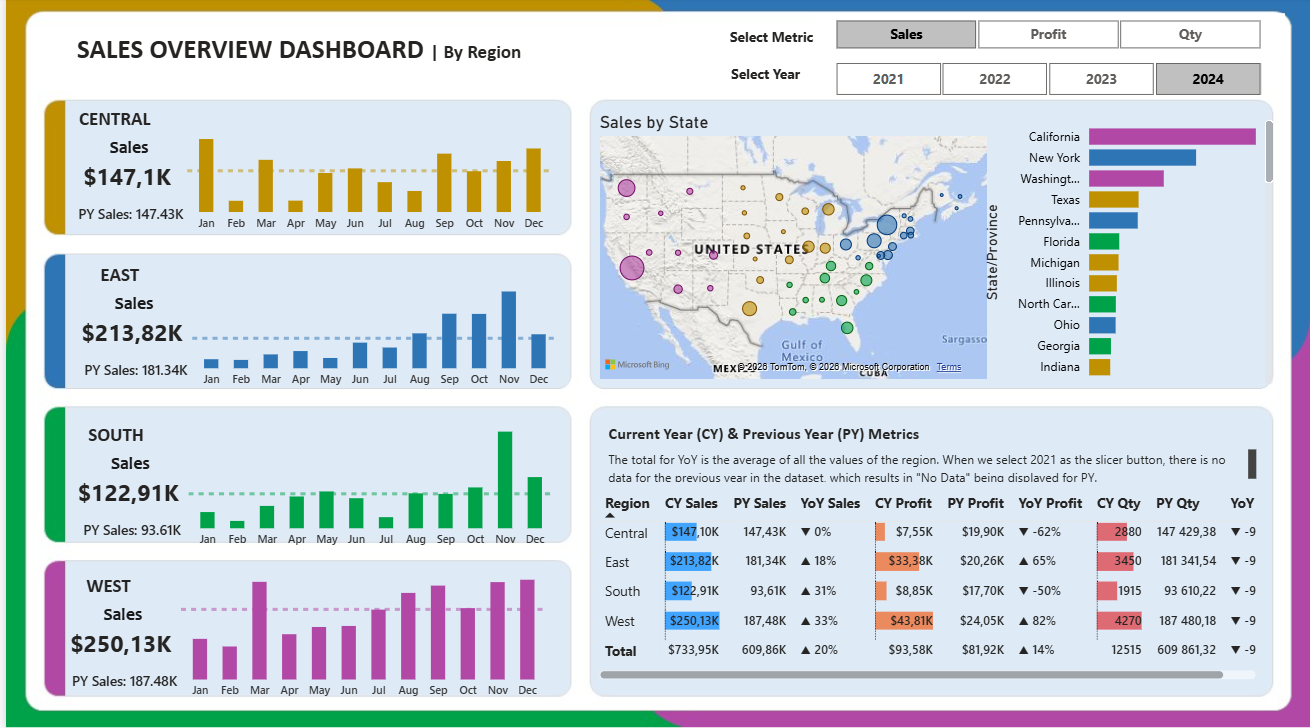

The page's visual inventory and layout, read from the dashboard file:
{"tool":"powerbi","page":{"name":"Page 1","canvas":[1280,720],"ordinal":0},"visuals":[{"type":"slicer","fields":{"Values":["Select Metric.Select Metric"]},"box":[789,16,466.3,41.7],"z":0},{"type":"slicer","fields":{"Values":["Calendar Table.Year"]},"box":[789,57.7,466.3,45.4],"z":1000},{"type":"card","fields":{"Values":["Sales Data.Total Sales"]},"box":[61.4,151,115.3,52.8],"z":1000,"group":"g1"},{"type":"card","fields":{"Values":["Sales Data.Total Sales"]},"box":[66.3,304.3,115.3,52.8],"z":1000,"group":"g2"},{"type":"card","fields":{"Values":["Sales Data.Total Sales"]},"box":[62.1,461.7,115.3,52.8],"z":1000,"group":"g3"},{"type":"card","fields":{"Values":["Sales Data.Total Sales"]},"box":[55.7,610.1,115.3,52.8],"z":1000,"group":"g4"},{"type":"textbox","box":[40.5,29.4,494.5,55.2],"z":2000},{"type":"textbox","box":[40.5,103.1,132.5,40.5],"z":2000,"group":"g1"},{"type":"textbox","box":[45.4,256.4,132.5,40.5],"z":2000,"group":"g2"},{"type":"textbox","box":[41.2,413.8,132.5,40.5],"z":2000,"group":"g3"},{"type":"textbox","box":[34.8,562.2,132.5,40.5],"z":2000,"group":"g4"},{"type":"group","id":"g1","title":"Group 1","box":[40.5,98.2,501.8,143.6],"z":3000},{"type":"card","fields":{"Values":["Sales Data.Dynamic Title"]},"box":[88.4,128.9,65,39.3],"z":4000,"group":"g1"},{"type":"group","id":"g2","title":"Group 1","box":[45.4,251.5,501.8,143.6],"z":4000},{"type":"card","fields":{"Values":["Sales Data.Dynamic Title"]},"box":[93.3,282.2,65,39.3],"z":4000,"group":"g2"},{"type":"card","fields":{"Values":["Sales Data.Dynamic Title"]},"box":[89.1,439.6,65,39.3],"z":4000,"group":"g3"},{"type":"card","fields":{"Values":["Sales Data.Dynamic Title"]},"box":[82.7,588,65,39.3],"z":4000,"group":"g4"},{"type":"card","fields":{"Values":["Sales Data.PY KPI Sales"]},"box":[45.4,189,154.6,52.8],"z":5000,"group":"g1"},{"type":"card","fields":{"Values":["Sales Data.PY KPI Sales"]},"box":[50.3,342.3,154.6,52.8],"z":5000,"group":"g2"},{"type":"group","id":"g3","title":"Group 1","box":[41.2,408.9,502.2,142.7],"z":5000},{"type":"card","fields":{"Values":["Sales Data.PY KPI Sales"]},"box":[46.1,499.7,154.6,52.8],"z":5000,"group":"g3"},{"type":"card","fields":{"Values":["Sales Data.PY KPI Sales"]},"box":[39.7,648.1,154.6,52.8],"z":5000,"group":"g4"},{"type":"clusteredColumnChart","fields":{"Y":["Sales Data.Total Sales"],"Category":["Calendar Table.Month"]},"box":[173,98.2,369.3,141.1],"z":6000,"group":"g1"},{"type":"clusteredColumnChart","fields":{"Y":["Sales Data.Total Sales"],"Category":["Calendar Table.Month"]},"box":[177.9,251.5,369.3,141.1],"z":6000,"group":"g2"},{"type":"clusteredColumnChart","fields":{"Y":["Sales Data.Total Sales"],"Category":["Calendar Table.Month"]},"box":[173.7,408.9,369.3,141.1],"z":6000,"group":"g3"},{"type":"group","id":"g4","title":"Group 1","box":[34.8,557.3,502.2,142.7],"z":6000},{"type":"clusteredColumnChart","fields":{"Y":["Sales Data.Total Sales"],"Category":["Calendar Table.Month"]},"box":[167.3,557.3,369.3,141.1],"z":6000,"group":"g4"},{"type":"map","title":"Sales by State","fields":{"Size":["Sales Data.Total Sales"],"Category":["Sales Data.State/Province"],"Series":["Sales Data.Region"]},"box":[577.9,112.9,390.2,267.5],"z":7000},{"type":"barChart","fields":{"Y":["Sales Data.Total Sales"],"Category":["Sales Data.State/Province"],"Series":["Sales Data.Region"]},"box":[954.6,108,294.5,277.3],"z":8000},{"type":"pivotTable","fields":{"Rows":["Sales Data.Region"],"Values":["Sales Data.CY Sales","Sales Data.PY Sales","Sales Data.YoY Sales","Sales Data.CY Profit","Sales Data.PY Profit","Sales Data.YoY Profit","Sales Data.CY Qty","Sales Data.PY Qty","Sales Data.YoY Qty"]},"box":[577.9,481,654,193.9],"z":9000},{"type":"textbox","box":[586.5,413.5,435.6,40.5],"z":10000},{"type":"textbox","box":[586.5,439.3,645.4,41.7],"z":11000},{"type":"textbox","box":[705.5,24.5,92,28.2],"z":12000},{"type":"textbox","box":[706.8,61.4,95.7,35.6],"z":13000}]}

Visuals, with their boxes in screenshot pixels (x1, y1, x2, y2), scaled from the page's 1280x720 canvas onto the 1310x728 screenshot:
slicer - Select Metric.Select Metric: box=[807, 16, 1285, 58]
slicer - Calendar Table.Year: box=[807, 58, 1285, 104]
card - Sales Data.Total Sales: box=[63, 153, 181, 206]
card - Sales Data.Total Sales: box=[68, 308, 186, 361]
card - Sales Data.Total Sales: box=[64, 467, 182, 520]
card - Sales Data.Total Sales: box=[57, 617, 175, 670]
textbox: box=[41, 30, 548, 86]
textbox: box=[41, 104, 177, 145]
textbox: box=[46, 259, 182, 300]
textbox: box=[42, 418, 178, 459]
textbox: box=[36, 568, 171, 609]
"Group 1" group: box=[41, 99, 555, 244]
card - Sales Data.Dynamic Title: box=[90, 130, 157, 170]
"Group 1" group: box=[46, 254, 560, 399]
card - Sales Data.Dynamic Title: box=[95, 285, 162, 325]
card - Sales Data.Dynamic Title: box=[91, 444, 158, 484]
card - Sales Data.Dynamic Title: box=[85, 595, 151, 634]
card - Sales Data.PY KPI Sales: box=[46, 191, 205, 244]
card - Sales Data.PY KPI Sales: box=[51, 346, 210, 399]
"Group 1" group: box=[42, 413, 556, 558]
card - Sales Data.PY KPI Sales: box=[47, 505, 205, 559]
card - Sales Data.PY KPI Sales: box=[41, 655, 199, 709]
clusteredColumnChart - Sales Data.Total Sales x Calendar Table.Month: box=[177, 99, 555, 242]
clusteredColumnChart - Sales Data.Total Sales x Calendar Table.Month: box=[182, 254, 560, 397]
clusteredColumnChart - Sales Data.Total Sales x Calendar Table.Month: box=[178, 413, 556, 556]
"Group 1" group: box=[36, 563, 550, 708]
clusteredColumnChart - Sales Data.Total Sales x Calendar Table.Month: box=[171, 563, 549, 706]
"Sales by State" map: box=[591, 114, 991, 385]
barChart - Sales Data.Total Sales x Sales Data.State/Province: box=[977, 109, 1278, 390]
pivotTable - Sales Data.Region x Sales Data.CY Sales: box=[591, 486, 1261, 682]
textbox: box=[600, 418, 1046, 459]
textbox: box=[600, 444, 1261, 486]
textbox: box=[722, 25, 816, 53]
textbox: box=[723, 62, 821, 98]
